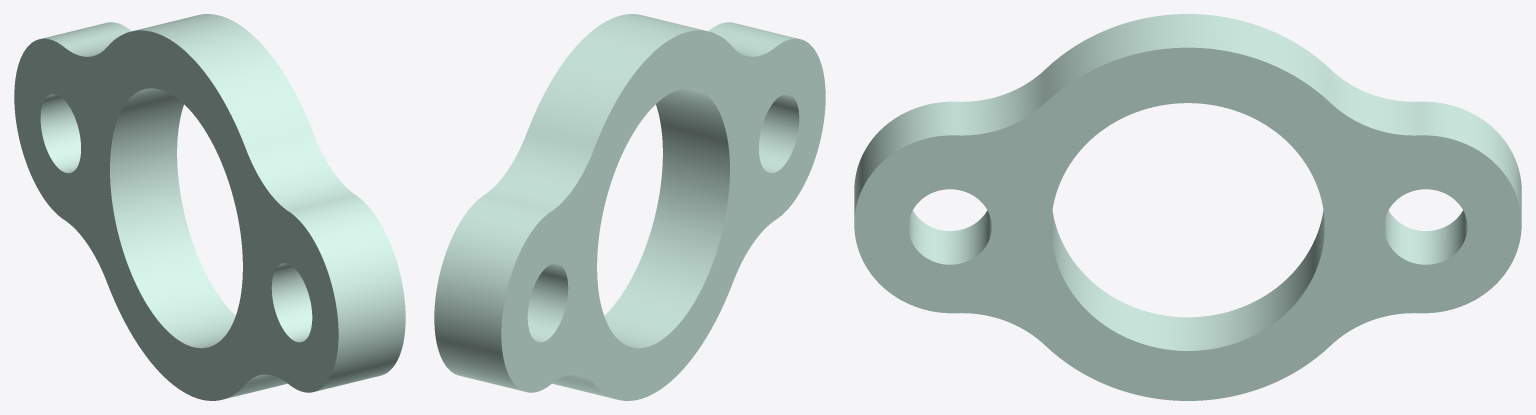
3 views of the same model, side by side, from view 1: azimuth 30°, elevation 25°; view 2: azimuth 150°, elevation 25°; view 3: azimuth 270°, elevation 25° (orthographic). The views are drawn at different scales.
Visible parts, largest first — view 1: Renderer Node; view 2: Renderer Node; view 3: Renderer Node.
Part boxes in pixels (x1,y1,x2,y2): Renderer Node: (14, 14, 405, 400); Renderer Node: (434, 14, 825, 400); Renderer Node: (854, 14, 1521, 400).
Size of the model in its own units: 0.1797 by 0.8788 by 1.5.
